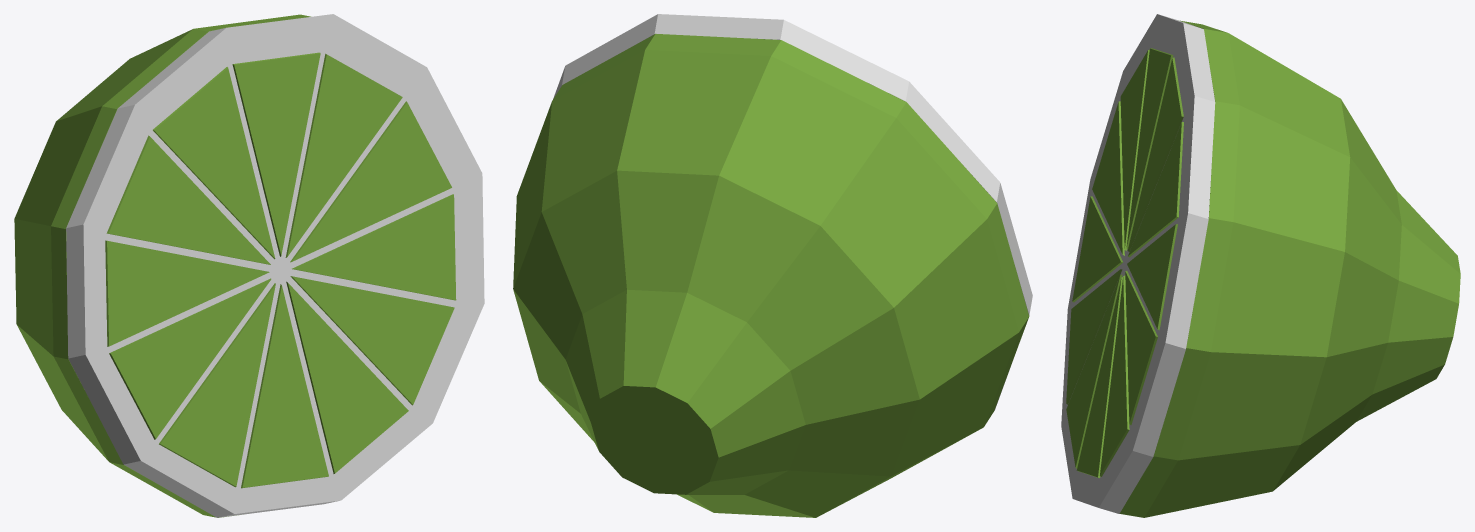
File: lime.glb
3 views of the same model, side by side, from view 1: azimuth 30°, elevation 25°; view 2: azimuth 150°, elevation 25°; view 3: azimuth 270°, elevation 25° (orthographic). The views are drawn at different scales.
Parts seen in each view (by area): view 1: node_MeshObject-609292224-PolyPaper9; view 2: node_MeshObject-609292224-PolyPaper9; view 3: node_MeshObject-609292224-PolyPaper9.
Part boxes in pixels (left/top/right/bottom): node_MeshObject-609292224-PolyPaper9: left=14, top=14, right=484, bottom=517; node_MeshObject-609292224-PolyPaper9: left=513, top=14, right=1032, bottom=517; node_MeshObject-609292224-PolyPaper9: left=1061, top=14, right=1460, bottom=517.
Bounding box in the file's own units: 0.2011 × 0.1998 × 0.1567.
